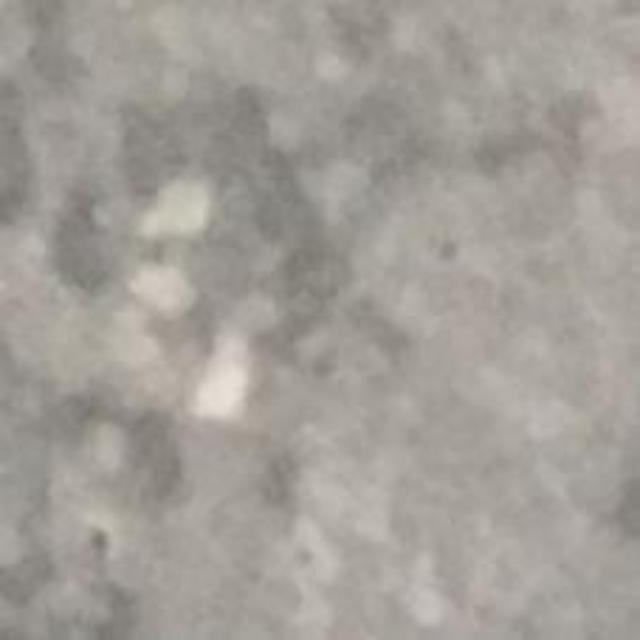peeling plaster: (189, 333, 250, 422)
